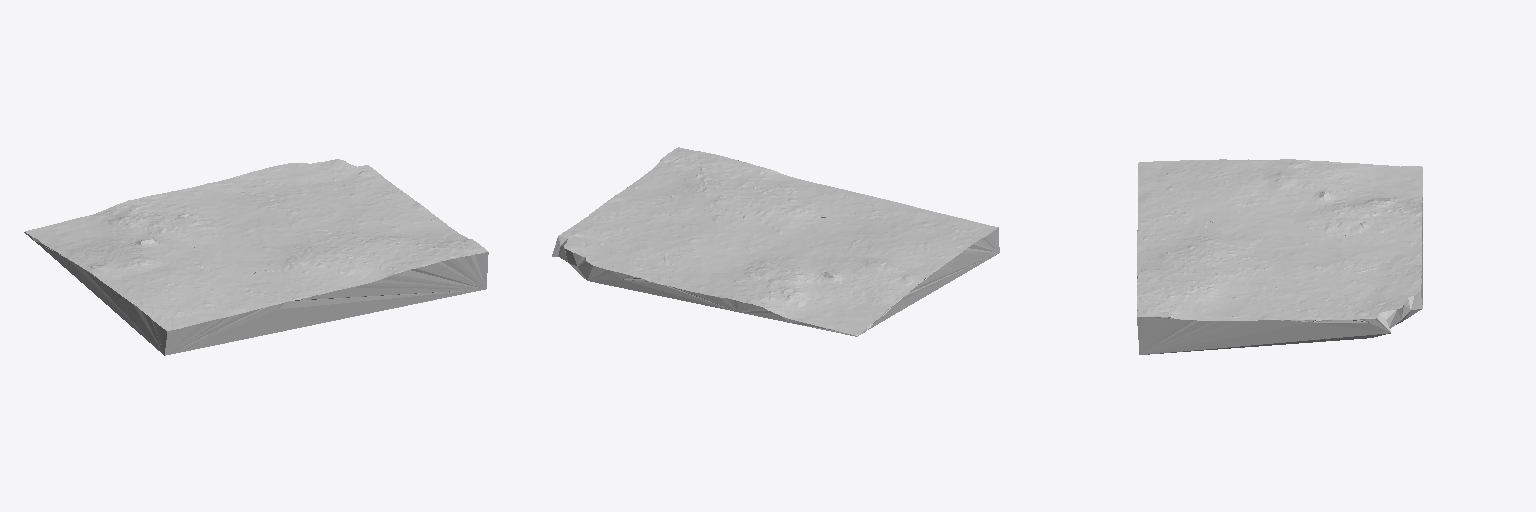
The model's file is ground_sim.obj.
3 renders of one model, left to right at view 1: azimuth 30°, elevation 25°; view 2: azimuth 150°, elevation 25°; view 3: azimuth 270°, elevation 25°, orthographic.
Parts seen in each view (by area): view 1: Ground_02; view 2: Ground_02; view 3: Ground_02.
Boxes of the visible parts, x1,y1,x2,y2 form: Ground_02: [24, 159, 488, 355]; Ground_02: [552, 147, 999, 336]; Ground_02: [1137, 159, 1422, 354].
Bounding box in the file's own units: 35.58 × 4.43 × 27.32.